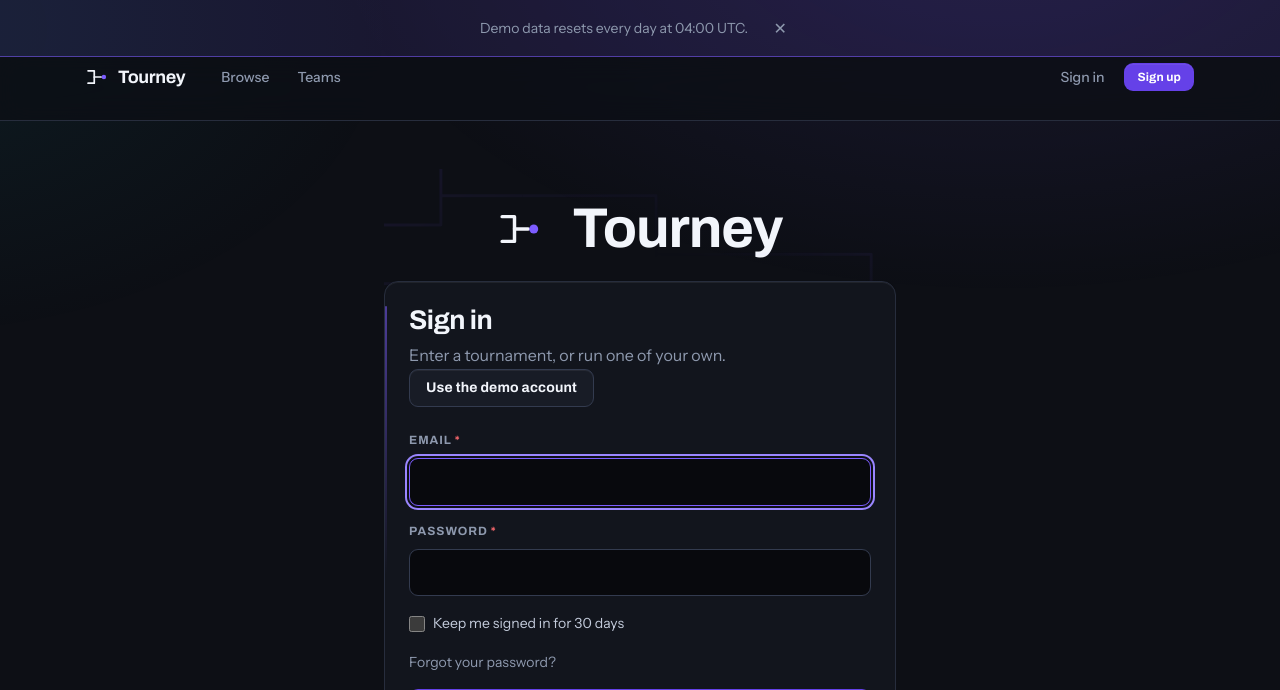
SignInPage › fills the form when "Use the demo account" is clicked
Click the button "Use the demo account" at (502,388), box [409, 369, 594, 407]
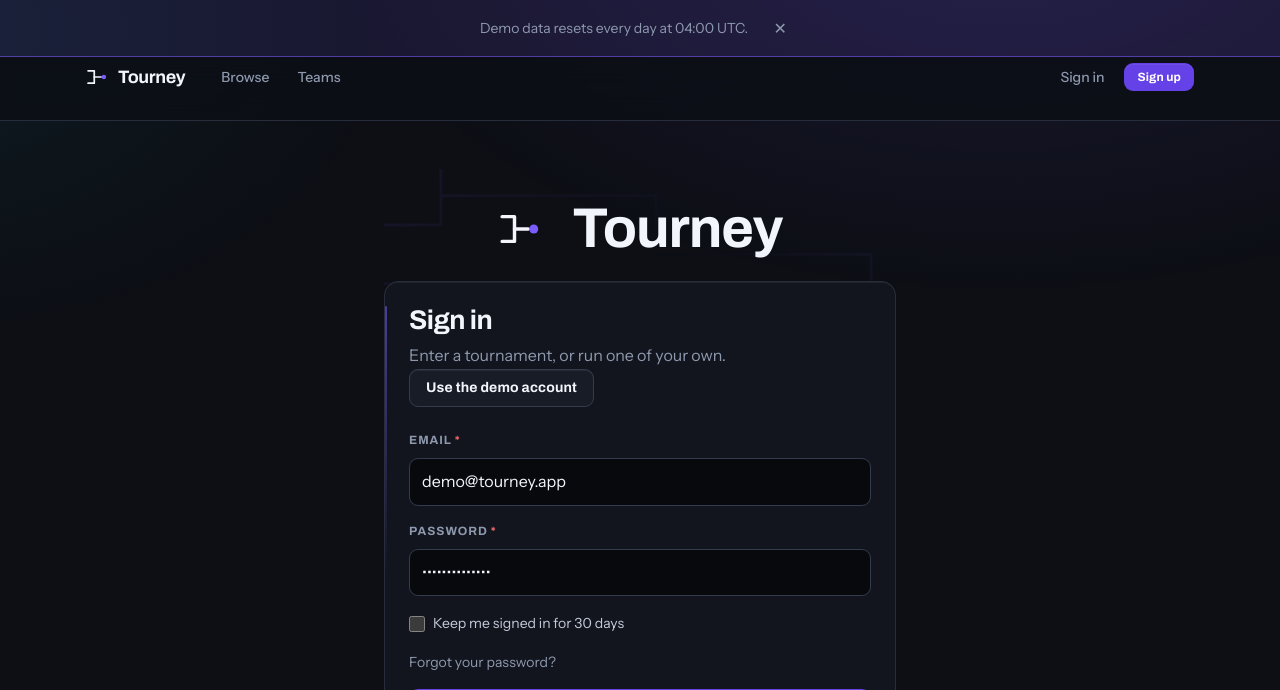
Expected: the field labelled "Email*" holds "demo@tourney.app", [409, 458, 871, 506]
Expected: the password field labelled "Password*" holds "DemoPlayer2026", [409, 549, 871, 596]
